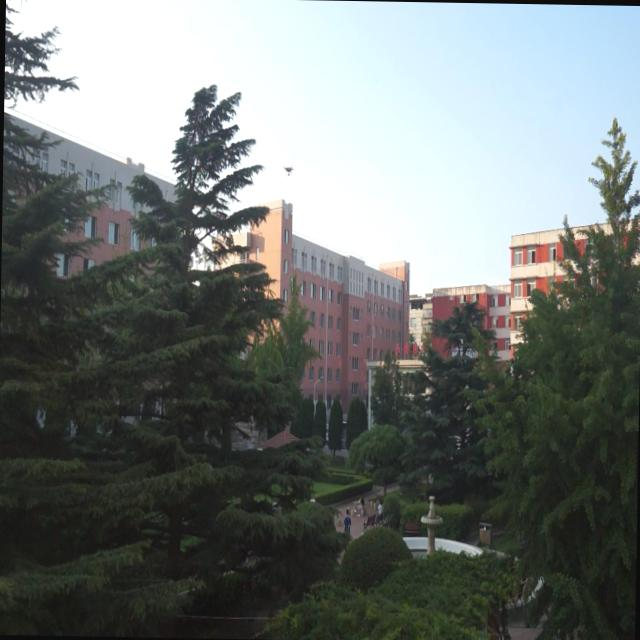drone: (281, 161, 295, 180)
